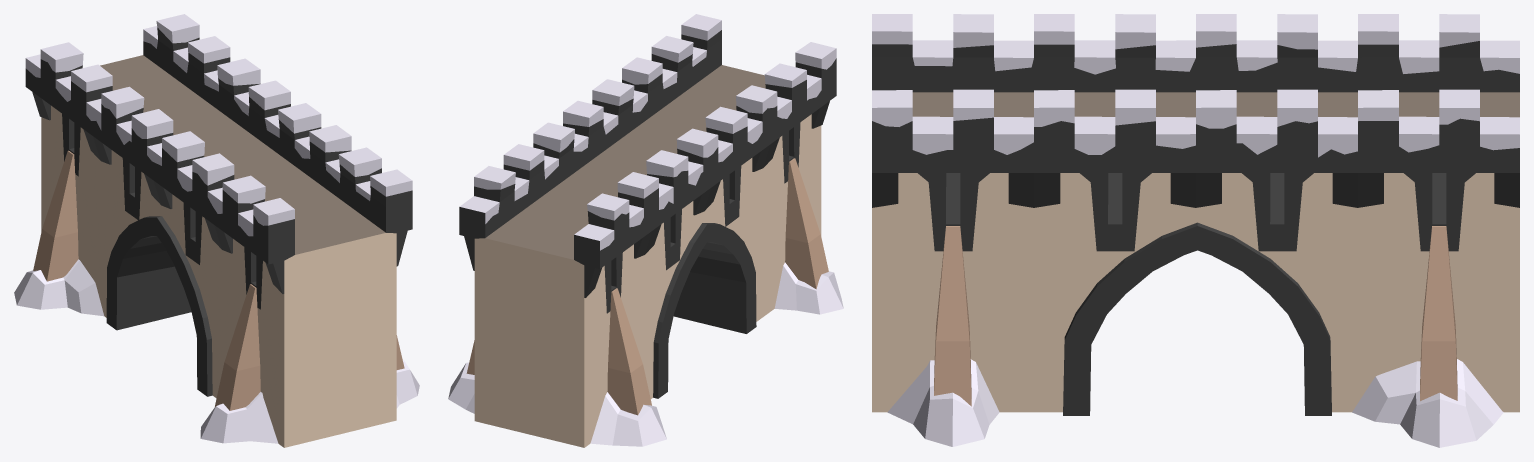
Rendered from wall-1.glb.
The picture shows the model from 3 angles, left to right: view 1: azimuth 30°, elevation 25°; view 2: azimuth 150°, elevation 25°; view 3: azimuth 270°, elevation 25°; orthographic projection. The views are drawn at different scales.
Parts seen in each view (by area): view 1: Wall1; view 2: Wall1; view 3: Wall1.
Boxes of the visible parts, <box> form: Wall1: <box>14,14,419,447</box>; Wall1: <box>448,14,843,447</box>; Wall1: <box>872,14,1519,447</box>.
Size of what is drawn, in the model's own units: 4.22 by 4.29 by 8.
1 material, 1 textured.
